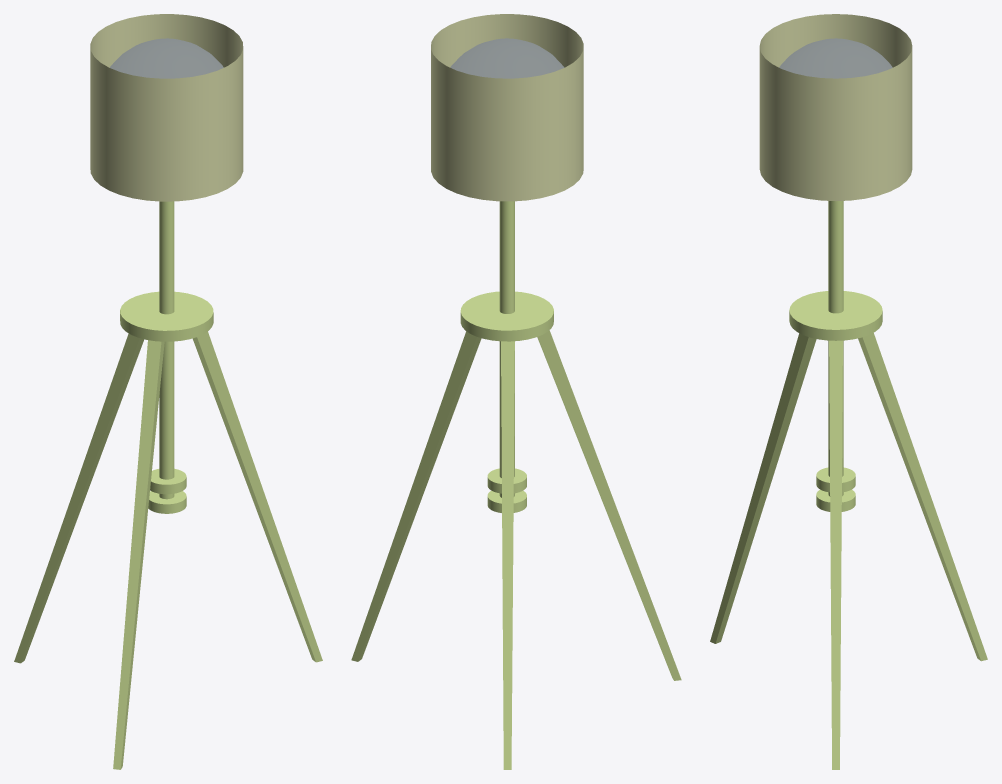
File: lamp_neutral.glb
3 views of the same model, side by side, from view 1: azimuth 30°, elevation 25°; view 2: azimuth 150°, elevation 25°; view 3: azimuth 270°, elevation 25° (orthographic).
Visible parts, largest first — view 1: Cylinder.004, Cube.003, Cube.002, Cube, Cylinder.001, Cylinder, Sphere, Cylinder.002, Cylinder.003; view 2: Cylinder.004, Cube.002, Cube, Cube.003, Cylinder, Sphere, Cylinder.001, Cylinder.002; view 3: Cylinder.004, Cube, Cube.003, Cube.002, Cylinder, Sphere, Cylinder.001, Cylinder.002, Cylinder.003.
Part boxes in pixels (bbox=[...]): Cylinder.004: bbox=[90, 14, 243, 201]; Cube.003: bbox=[113, 340, 164, 769]; Cube.002: bbox=[14, 333, 144, 663]; Cube: bbox=[192, 331, 322, 662]; Cylinder.001: bbox=[159, 201, 174, 499]; Cylinder: bbox=[120, 291, 213, 341]; Sphere: bbox=[109, 38, 223, 78]; Cylinder.002: bbox=[150, 468, 186, 494]; Cylinder.003: bbox=[148, 491, 186, 513]; Cylinder.004: bbox=[431, 14, 583, 201]; Cube.002: bbox=[501, 341, 514, 769]; Cube: bbox=[351, 331, 481, 661]; Cube.003: bbox=[537, 330, 681, 680]; Cylinder: bbox=[460, 291, 553, 341]; Sphere: bbox=[450, 38, 564, 78]; Cylinder.001: bbox=[499, 201, 514, 497]; Cylinder.002: bbox=[487, 468, 526, 493]; Cylinder.004: bbox=[759, 14, 912, 201]; Cube: bbox=[829, 340, 842, 769]; Cube.003: bbox=[710, 333, 816, 643]; Cube.002: bbox=[858, 333, 987, 661]; Cylinder: bbox=[789, 291, 882, 340]; Sphere: bbox=[779, 38, 892, 78]; Cylinder.001: bbox=[828, 201, 843, 496]; Cylinder.002: bbox=[816, 467, 855, 492]; Cylinder.003: bbox=[816, 489, 855, 511].
Size of the model in its own units: 5.23 by 12.14 by 4.71.
